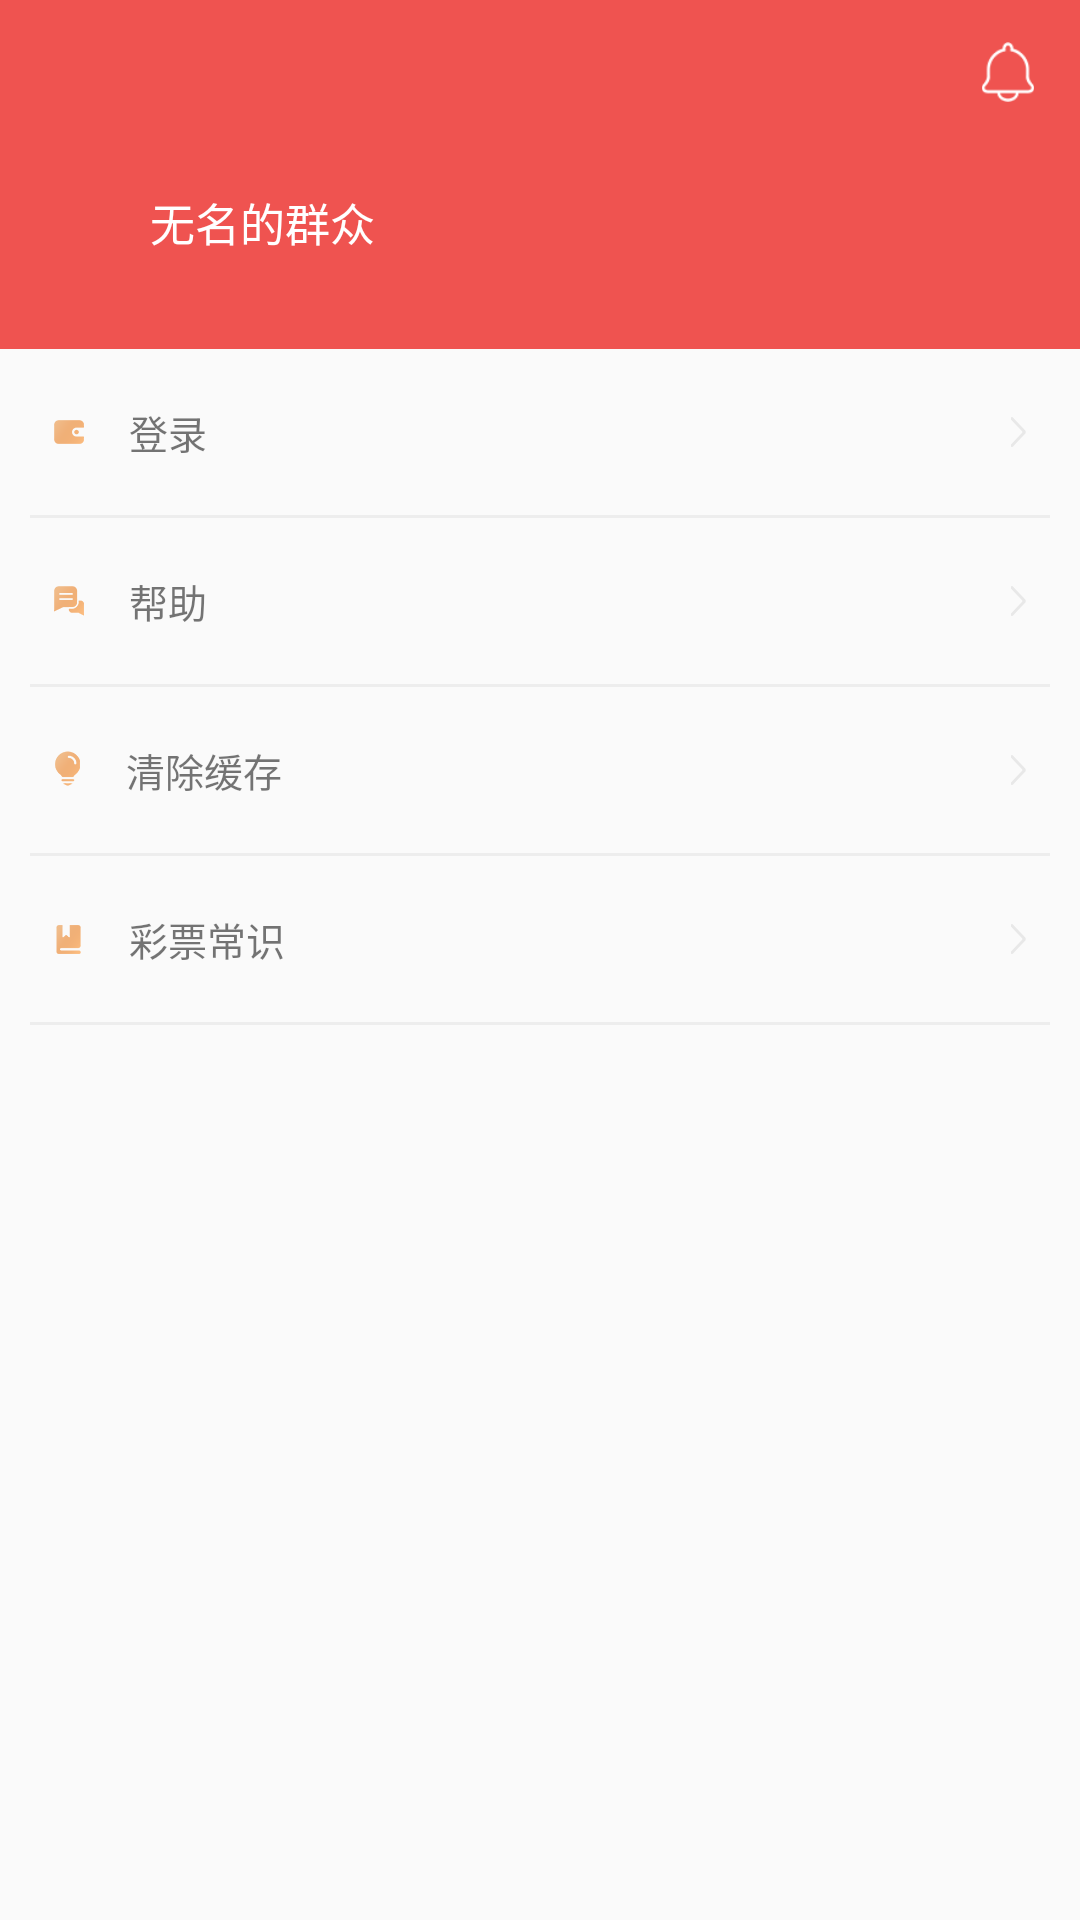

Icons on this 1080x1920 Android screen, each with its box as (x1, y1, x2, y2):
notification: (982, 42, 1034, 102)
